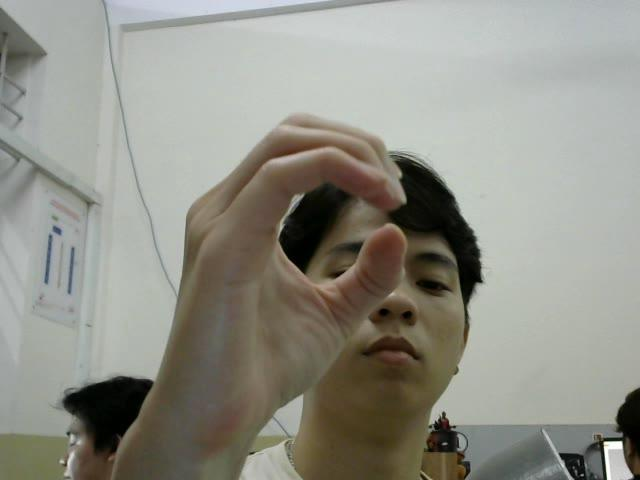C: (173, 110, 408, 434)
